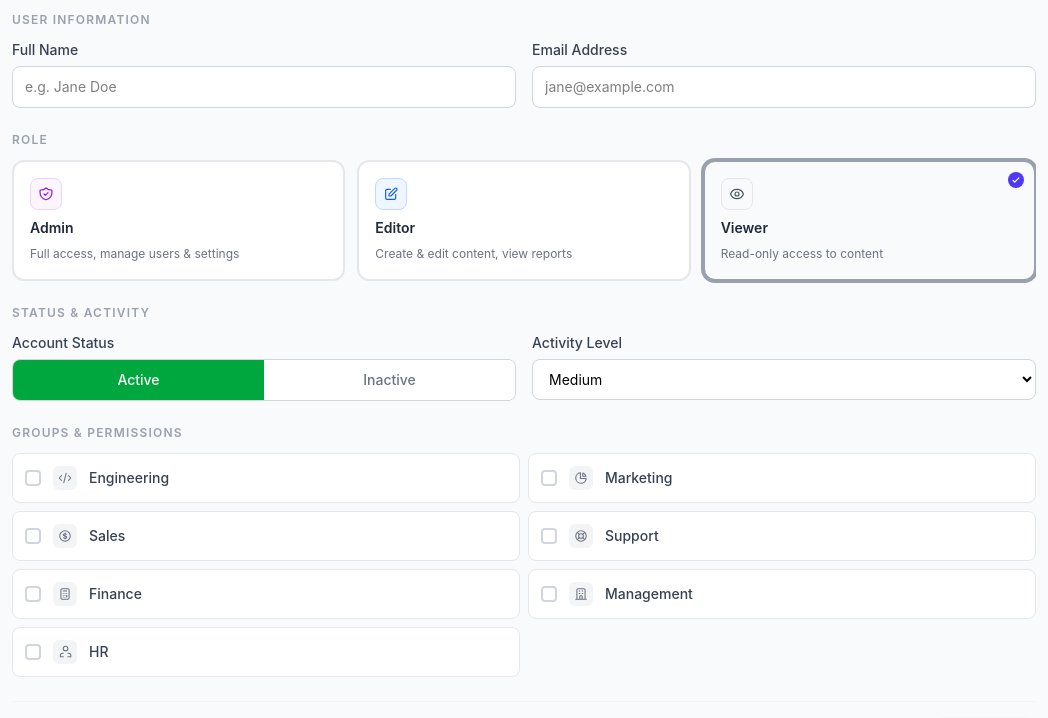
Scenario: Groups & Permissions › checks a group when its label is clicked
The width and height of the screenshot is (1048, 718).
Click the text "Engineering": (129, 478) [89, 468, 169, 488]
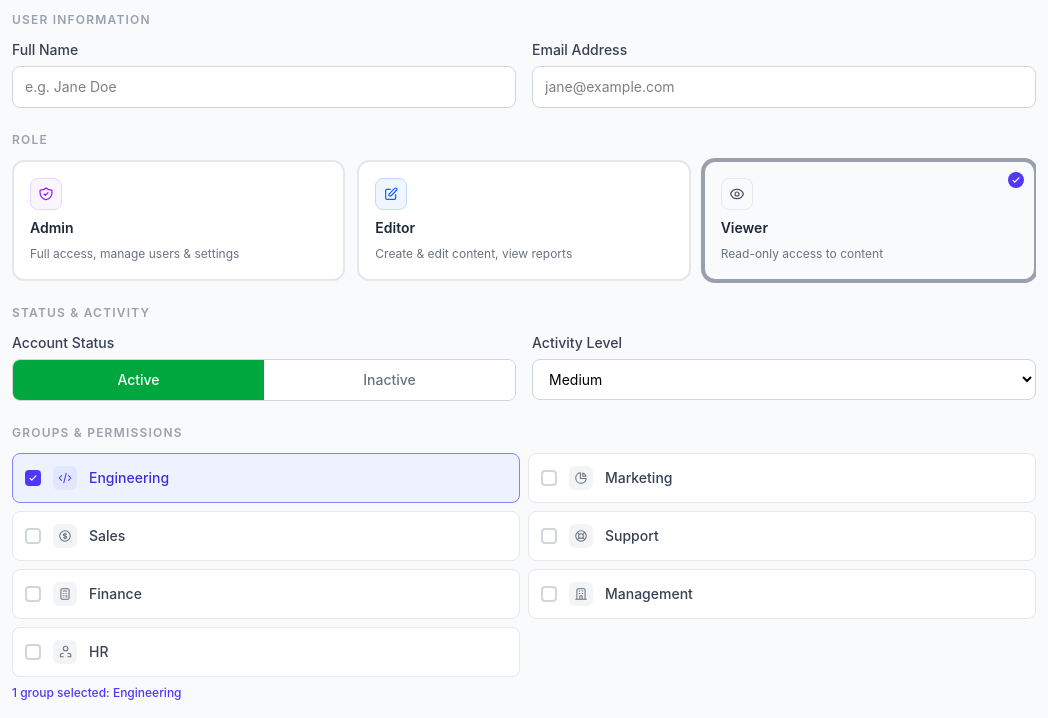
Result: the checkbox labelled "Engineering" is checked at [12, 452, 520, 502]
